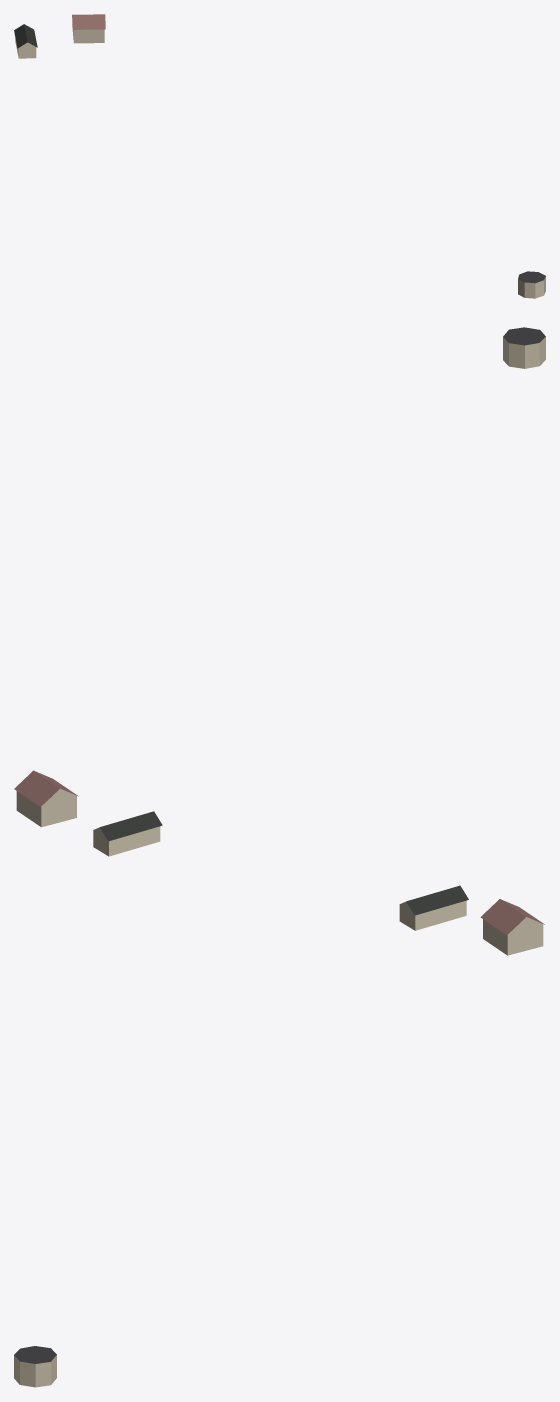
The picture shows the model from 3 angles, top to bottom: view 1: azimuth 30°, elevation 25°; view 2: azimuth 150°, elevation 25°; view 3: azimuth 330°, elevation 25°; orthographic projection. The views are drawn at different scales.
Visible parts, largest first — view 1: tuile; view 2: tuile; view 3: tuile.
Boxes of the visible parts, box(x1,y1,x2,y2) form: tuile: box(14, 14, 545, 298); tuile: box(14, 327, 545, 856); tuile: box(14, 885, 544, 1387).
Bounding box in the file's own units: 49.23 × 7.78 × 228.
